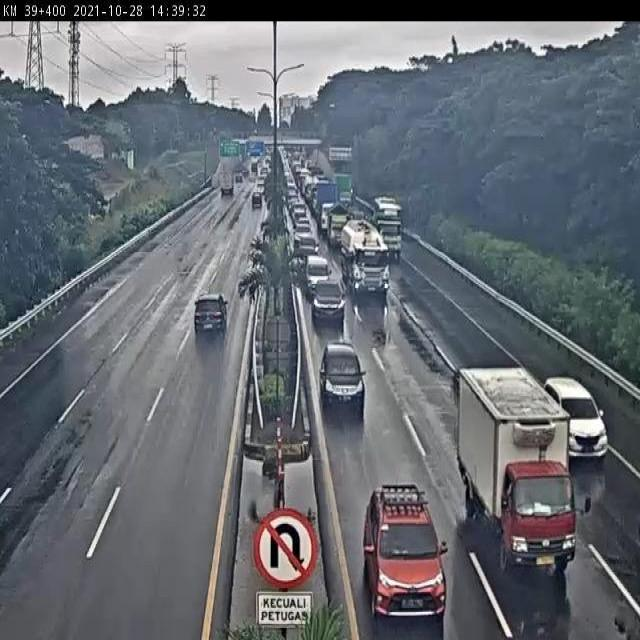big bus: (373, 196, 407, 244), (305, 249, 333, 295)
big truck: (452, 373, 576, 590), (343, 223, 394, 292)
car: (358, 468, 450, 623), (548, 373, 620, 460), (323, 335, 369, 409), (190, 292, 232, 345), (312, 273, 348, 324), (298, 235, 319, 260), (252, 189, 265, 207)
small truck: (374, 213, 406, 259), (327, 202, 348, 242), (215, 166, 237, 202)
